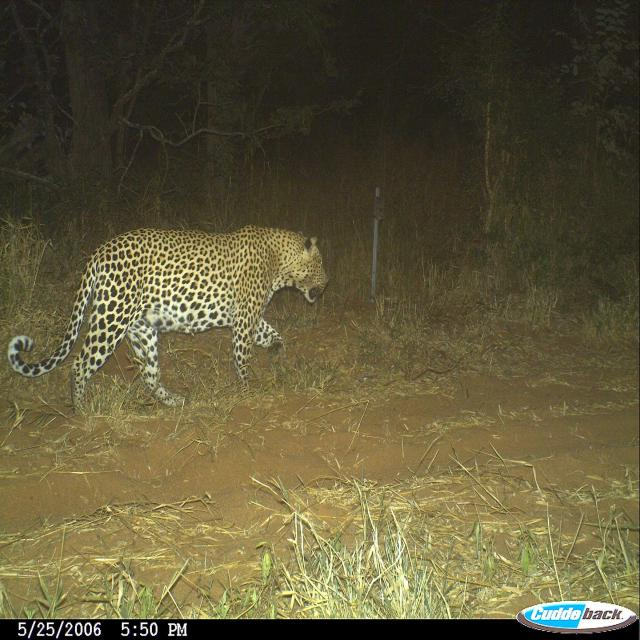Leopard: (3, 222, 333, 418)
